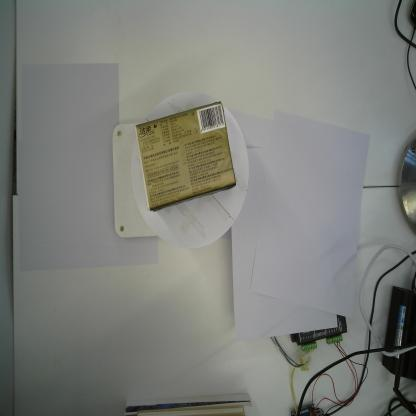Tissue: (134, 100, 237, 212)
